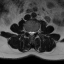CCS_normal: (30, 29, 32, 37)
LFS_normal: (34, 28, 36, 34)
LLS_normal: (32, 29, 34, 36)
RFS_stenosis: (26, 28, 28, 34)
RLS_normal: (28, 29, 30, 36)
